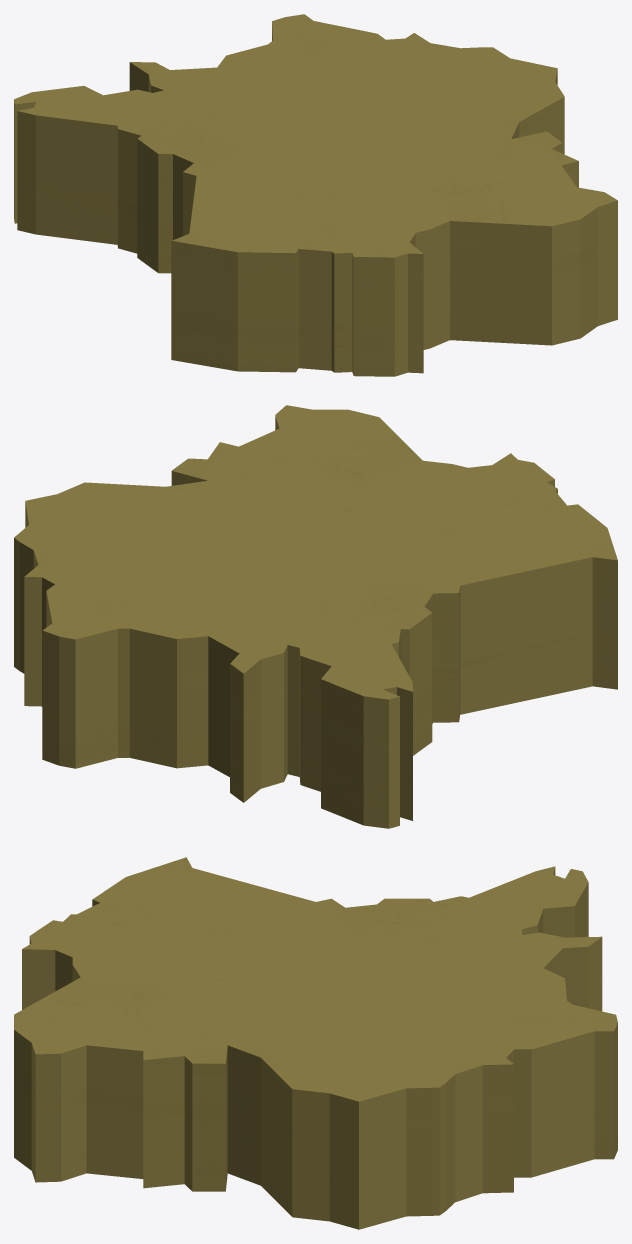
File: france.DAE
3 renders of one model, top to bottom at view 1: azimuth 30°, elevation 25°; view 2: azimuth 150°, elevation 25°; view 3: azimuth 270°, elevation 25°, orthographic. The views are drawn at different scales.
Parts seen in each view (by area): view 1: France; view 2: France; view 3: France.
Boxes of the visible parts, x1=… form: France: x1=14, y1=14, x2=617, y2=376; France: x1=14, y1=405, x2=617, y2=828; France: x1=14, y1=857, x2=617, y2=1229.
Bounding box in the file's own units: 102 × 107 × 25.
Materials: 1 (1 with a texture image).
